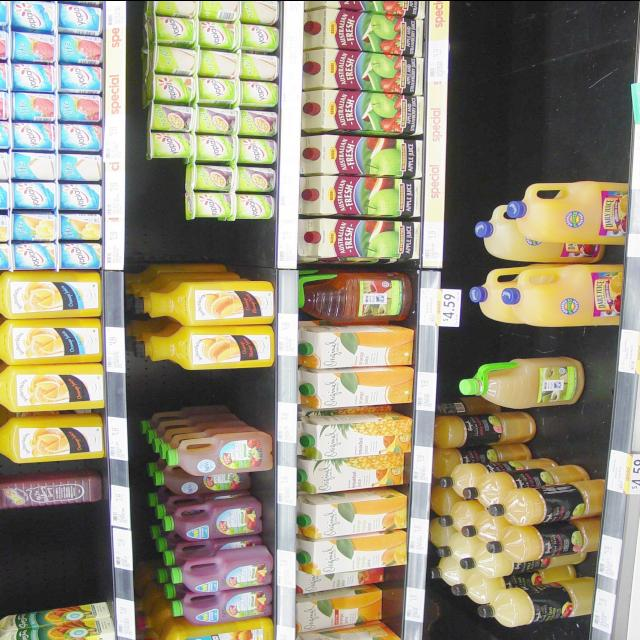empty_space: (458, 1, 631, 177), (15, 503, 111, 598), (179, 219, 273, 261), (176, 371, 274, 411), (507, 326, 615, 354)
